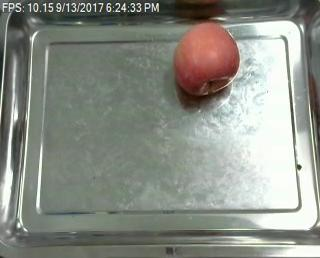apple: (173, 22, 240, 96)
